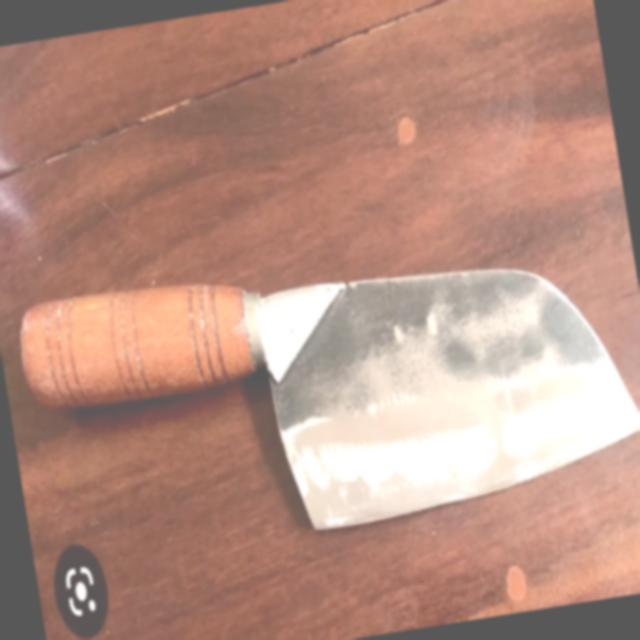knife: (2, 197, 640, 585)
